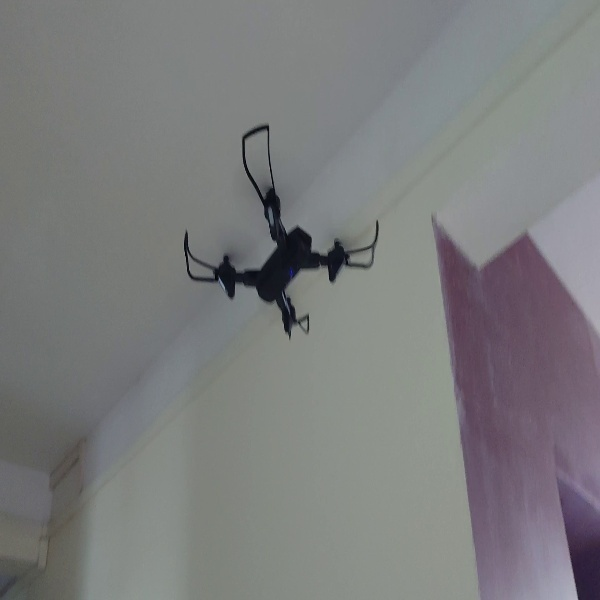drone: (178, 116, 376, 346)
